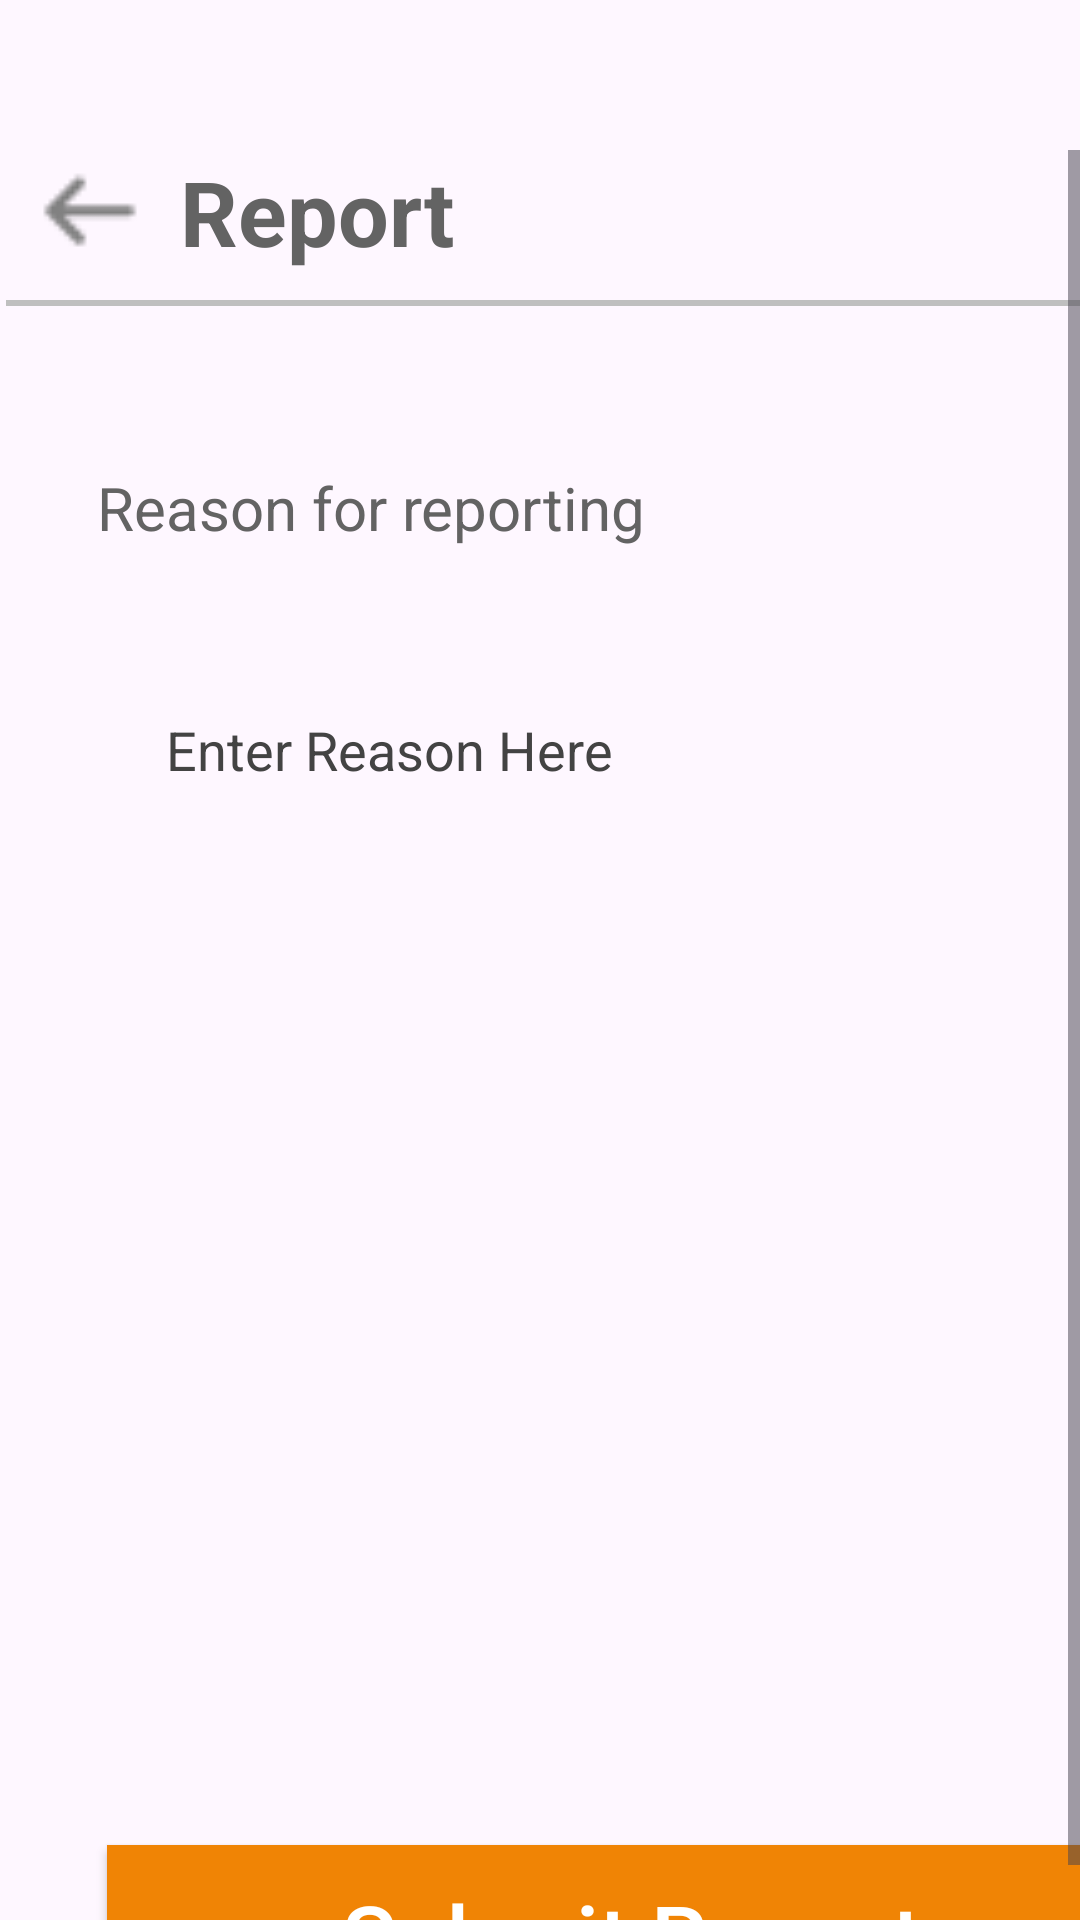

Icon click points for this 1080*1920 phone screenshot, format (x=x, y=y):
arrow: (x=90, y=210)
